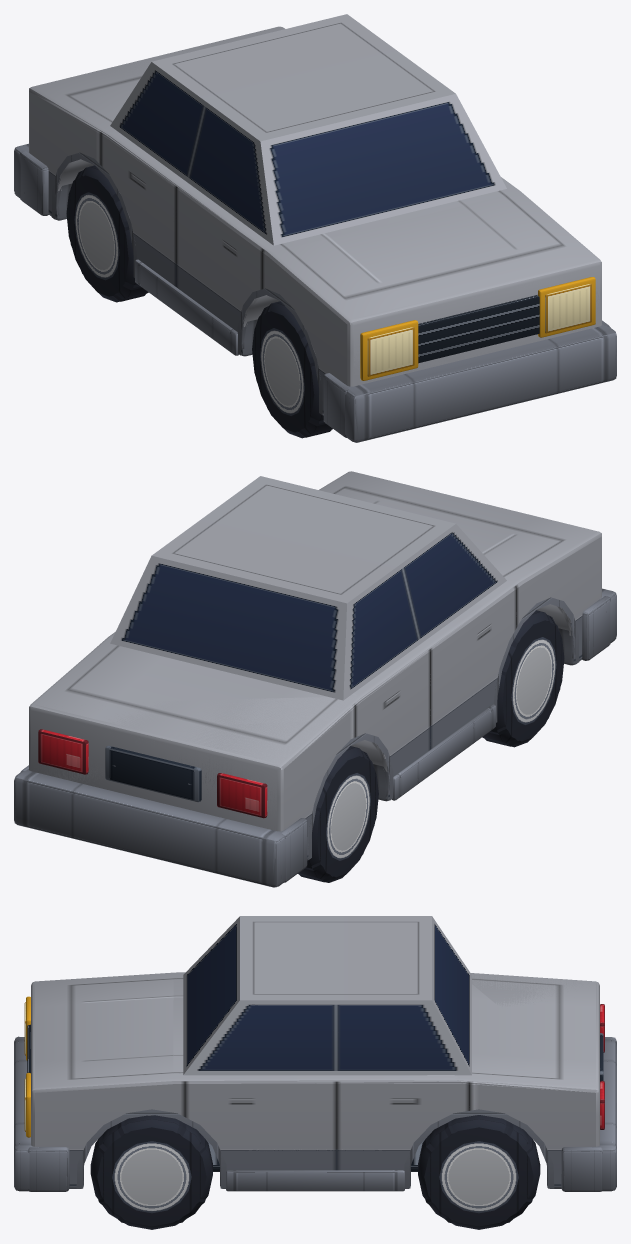
The model's file is grey-sedan.glb.
The picture shows the model from 3 angles, top to bottom: view 1: azimuth 30°, elevation 25°; view 2: azimuth 150°, elevation 25°; view 3: azimuth 270°, elevation 25°; orthographic projection. The views are drawn at different scales.
Visible parts, largest first — view 1: body, lod, wheel-rear-left, wheel-front-left; view 2: body, lod, wheel-front-left, wheel-rear-left; view 3: body, lod, wheel-front-right, wheel-rear-right.
Part boxes in pixels (left/top/right/bottom): body: left=14, top=14, right=616, bottom=442; lod: left=14, top=27, right=616, bottom=442; wheel-rear-left: left=66, top=165, right=148, bottom=302; wheel-front-left: left=252, top=301, right=332, bottom=438; body: left=14, top=471, right=616, bottom=887; lod: left=14, top=471, right=616, bottom=887; wheel-front-left: left=482, top=610, right=564, bottom=747; wheel-rear-left: left=298, top=746, right=378, bottom=882; body: left=14, top=916, right=616, bottom=1191; lod: left=14, top=972, right=616, bottom=1223; wheel-front-right: left=90, top=1115, right=212, bottom=1229; wheel-rear-right: left=418, top=1115, right=540, bottom=1229.
Size of the model in its own units: 1.9 by 1.71 by 4.24.
Materials: 1 (1 with a texture image).
